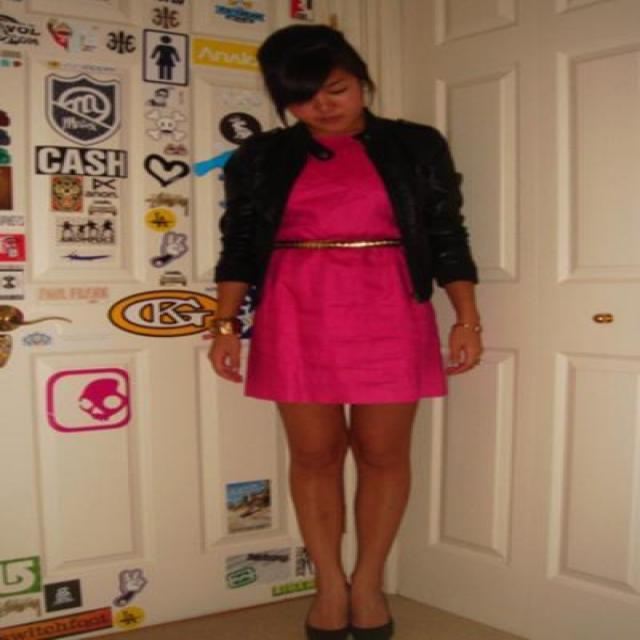dress: (216, 124, 440, 410)
jacket: (214, 107, 477, 302)
shoe: (306, 618, 392, 639)
